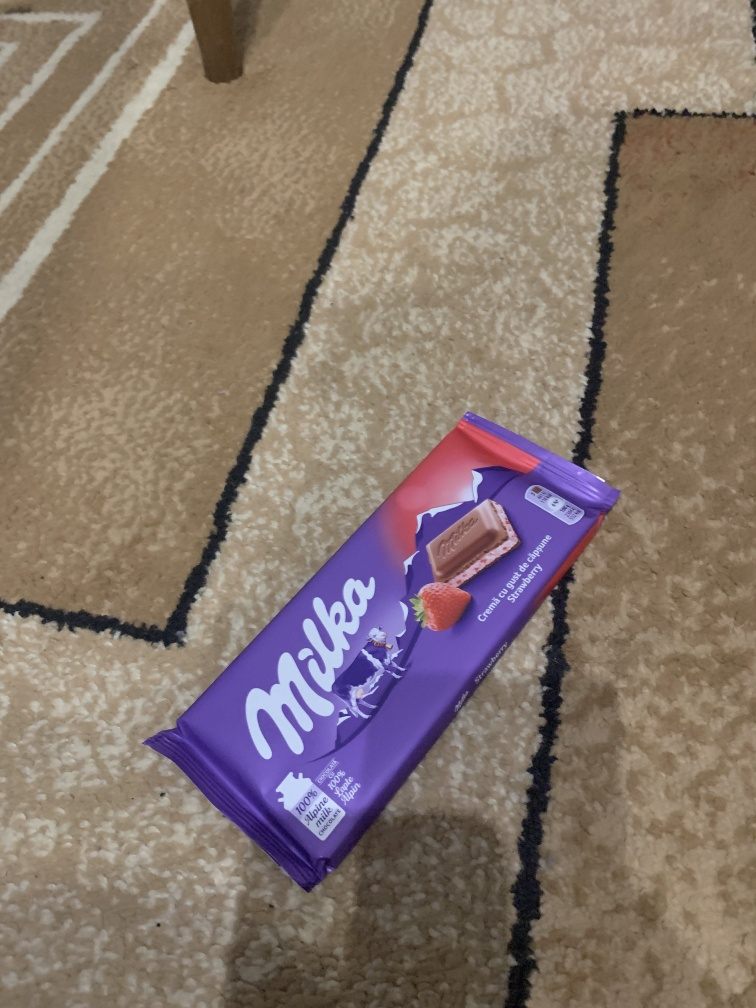milka: (125, 405, 635, 936)
